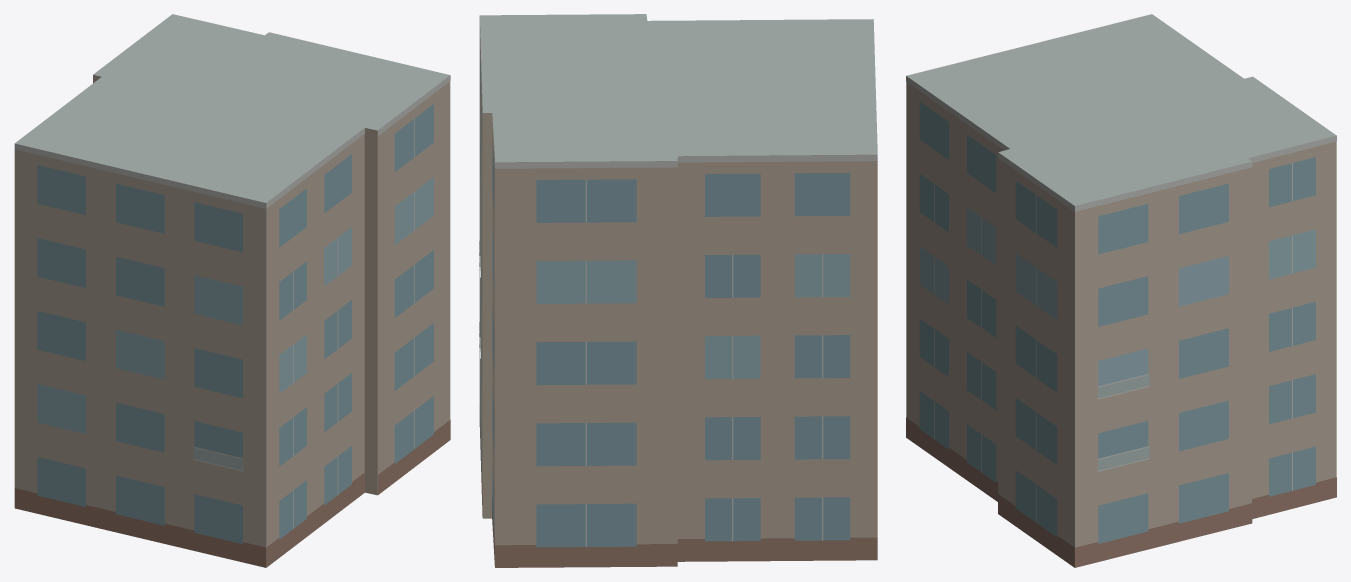
File: survey-upis-33016046.glb
3 views of the same model, side by side, from view 1: azimuth 30°, elevation 25°; view 2: azimuth 150°, elevation 25°; view 3: azimuth 270°, elevation 25° (orthographic). The views are drawn at different scales.
Parts seen in each view (by area): view 1: survey-upis-33016046.tmp; view 2: survey-upis-33016046.tmp; view 3: survey-upis-33016046.tmp.
Part boxes in pixels (x1,y1,x2,y2): survey-upis-33016046.tmp: [14, 14, 450, 567]; survey-upis-33016046.tmp: [479, 14, 877, 567]; survey-upis-33016046.tmp: [906, 14, 1336, 567].
Size of the model in its own units: 17.37 by 15.25 by 16.46.
